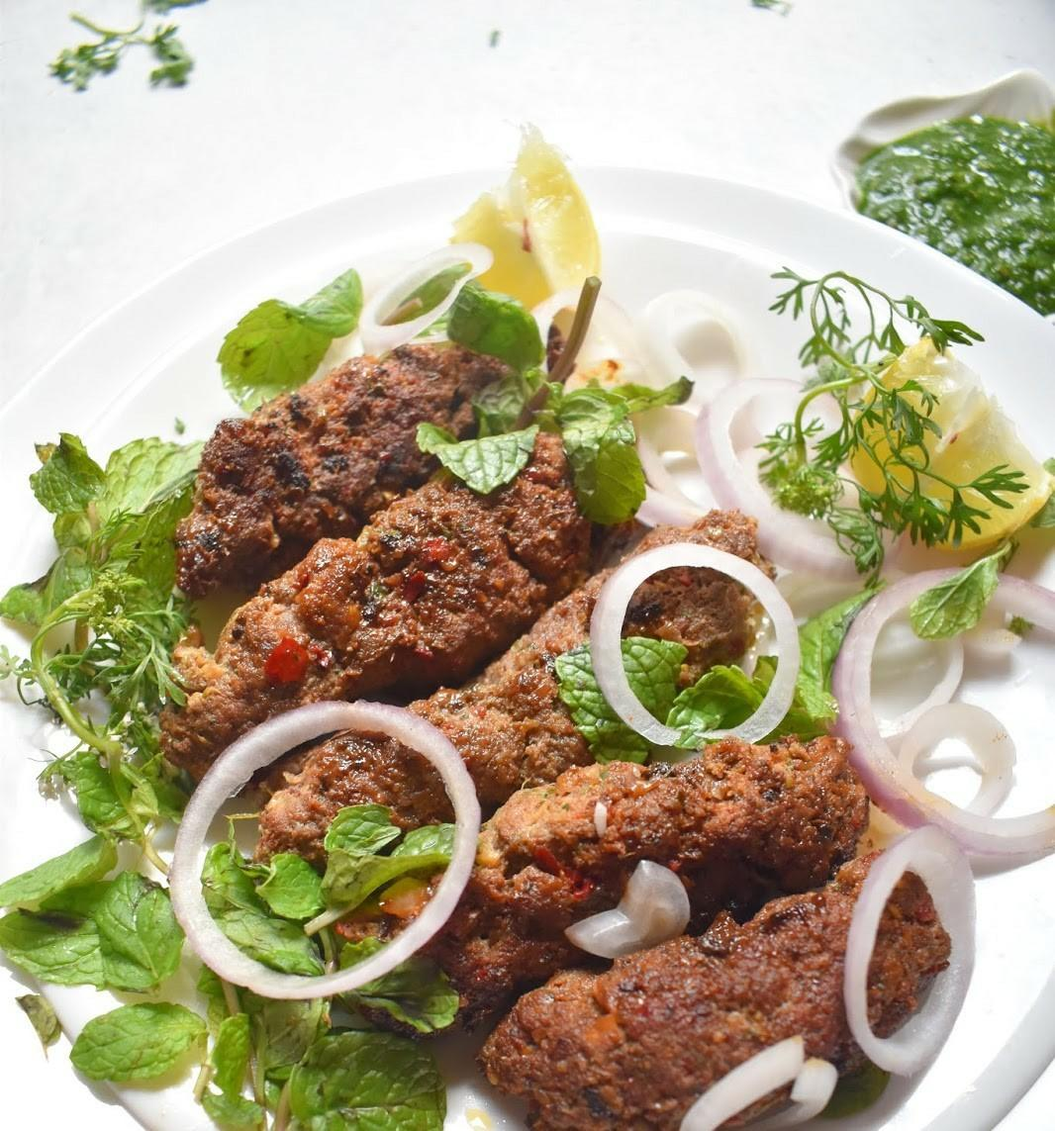GreenChutney: (862, 112, 1055, 317)
Kebab: (256, 513, 773, 873), (154, 431, 636, 792), (336, 736, 869, 1038), (481, 852, 951, 1131), (169, 344, 505, 581)
